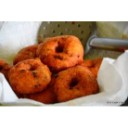vada: (41, 35, 84, 69), (11, 59, 49, 94), (56, 67, 96, 97)
